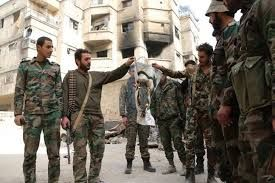gun: (62, 68, 76, 163)
uniform: (234, 9, 271, 164), (14, 53, 61, 172), (204, 14, 238, 166), (182, 60, 213, 164), (151, 78, 182, 164), (125, 79, 151, 166)
